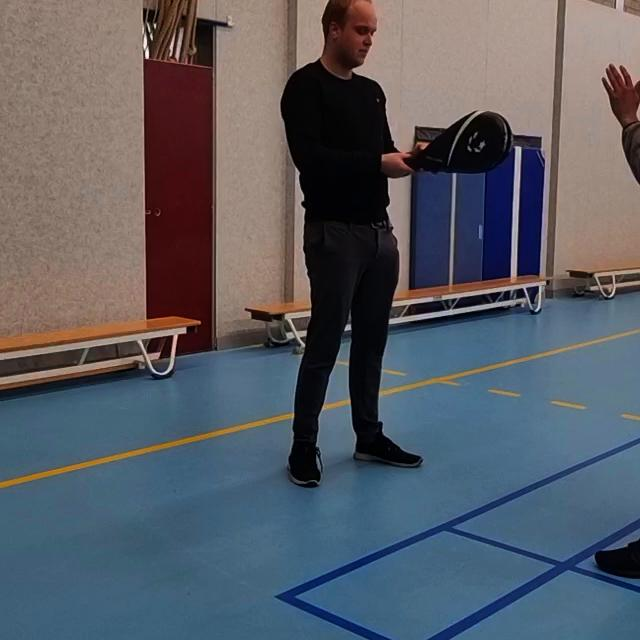paddle: (350, 137, 450, 207)
